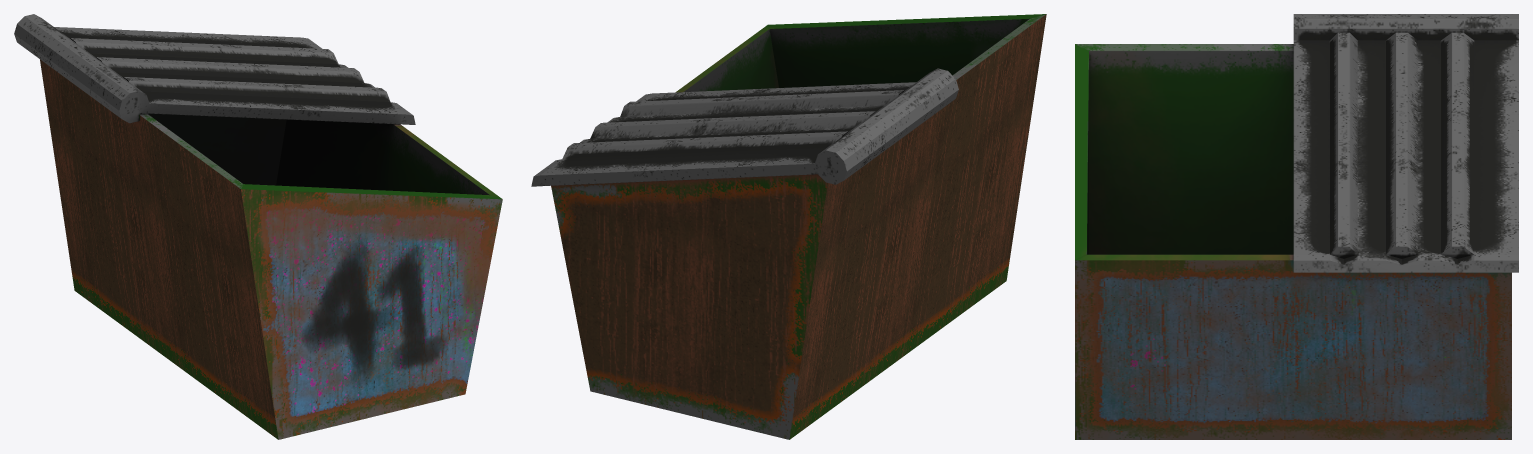
Rendered from Dumpster2_01.fbx.
3 renders of one model, left to right at view 1: azimuth 30°, elevation 25°; view 2: azimuth 150°, elevation 25°; view 3: azimuth 270°, elevation 25°, orthographic. The views are drawn at different scales.
Parts seen in each view (by area): view 1: pCylinder6; view 2: pCylinder6; view 3: pCylinder6.
Part boxes in pixels (box(x1,y1,x2,y2)): pCylinder6: box(14, 14, 502, 439); pCylinder6: box(531, 14, 1046, 439); pCylinder6: box(1075, 14, 1518, 439).
Bounding box in the file's own units: 6.58 × 6.01 × 7.96.
